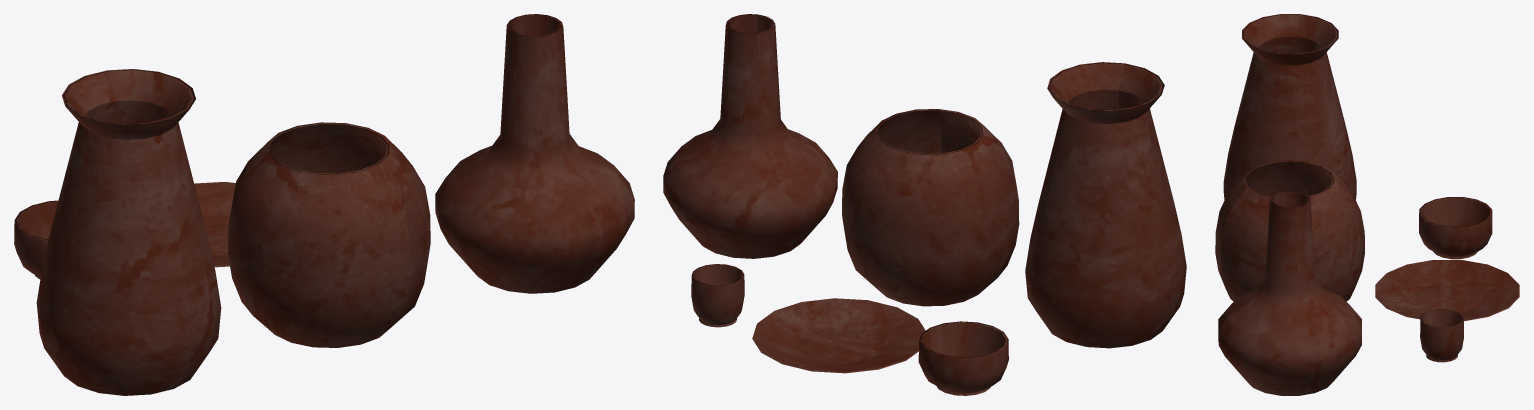
File: Pottery_V06.fbx
3 views of the same model, side by side, from view 1: azimuth 30°, elevation 25°; view 2: azimuth 150°, elevation 25°; view 3: azimuth 270°, elevation 25° (orthographic). The views are drawn at different scales.
Parts seen in each view (by area): view 1: vase03, vase02, vase01, plate, bowl; view 2: vase03, vase02, vase01, plate, bowl, cup; view 3: vase01, vase03, vase02, plate, bowl, cup.
Part boxes in pixels (bbox=[...]): vase03: bbox=[36, 69, 221, 395]; vase02: bbox=[228, 122, 430, 347]; vase01: bbox=[435, 14, 634, 293]; plate: bbox=[194, 182, 235, 267]; bowl: bbox=[14, 200, 58, 279]; vase03: bbox=[1025, 62, 1186, 348]; vase02: bbox=[842, 109, 1019, 306]; vase01: bbox=[663, 14, 837, 258]; plate: bbox=[752, 298, 925, 373]; bowl: bbox=[918, 321, 1008, 395]; cup: bbox=[691, 264, 744, 327]; vase01: bbox=[1218, 191, 1361, 395]; vase03: bbox=[1223, 14, 1356, 199]; vase02: bbox=[1215, 160, 1364, 301]; plate: bbox=[1375, 260, 1519, 321]; bowl: bbox=[1419, 197, 1492, 259]; cup: bbox=[1420, 309, 1463, 362].
Size of the model in its own units: 200 by 91.74 by 126.
Materials: 1 (1 with a texture image).
